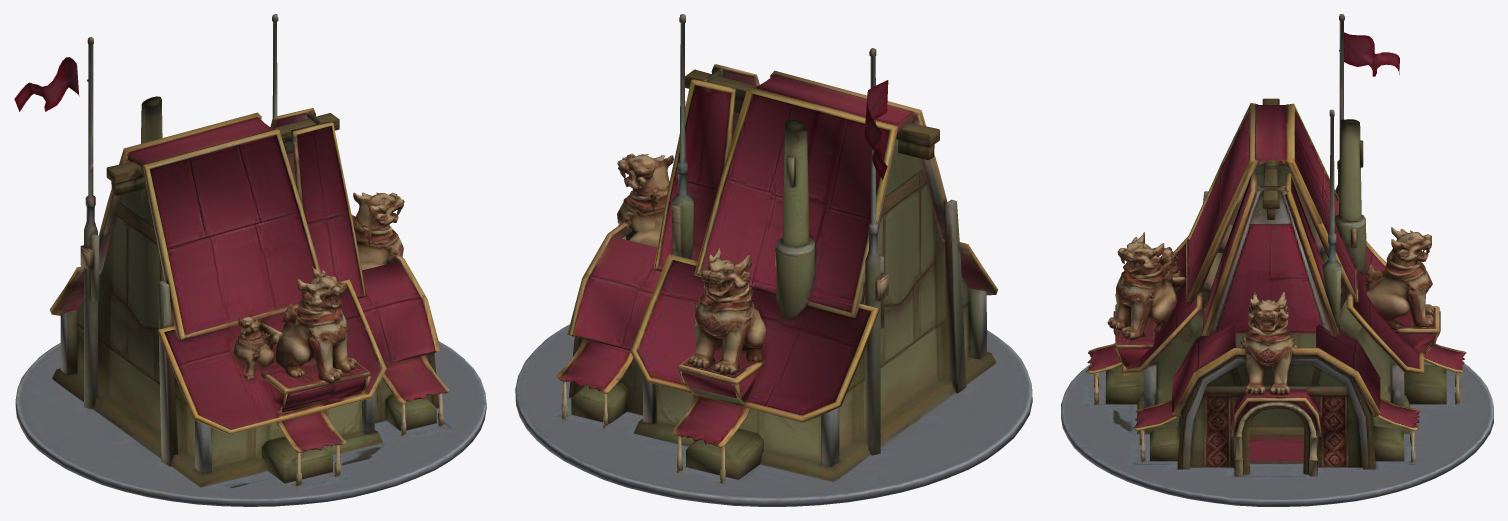
The model's file is gtfc_airfield.glb.
3 renders of one model, left to right at view 1: azimuth 30°, elevation 25°; view 2: azimuth 150°, elevation 25°; view 3: azimuth 270°, elevation 25°, orthographic. The views are drawn at different scales.
Visible parts, largest first — view 1: Body; view 2: Body; view 3: Body.
Part boxes in pixels (x1,y1,x2,y2): Body: [14, 14, 486, 506]; Body: [515, 14, 1032, 506]; Body: [1061, 14, 1493, 506].
Bounding box in the file's own units: 13.33 × 11.71 × 13.33.
Materials: 2 (2 with a texture image).
